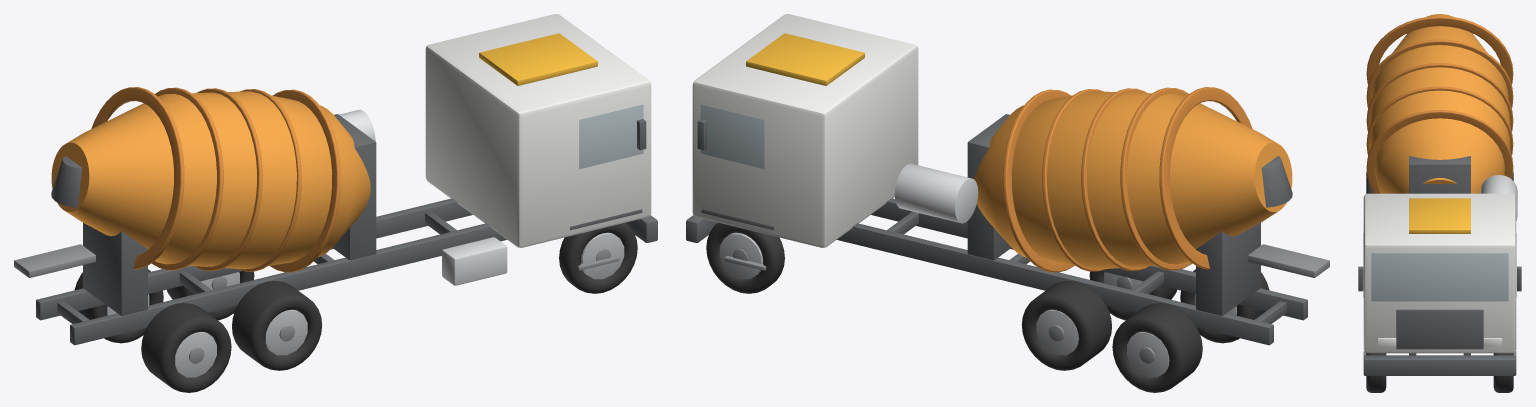
Rendered from EQP-CON-005_anim.glb.
The picture shows the model from 3 angles, left to right: view 1: azimuth 30°, elevation 25°; view 2: azimuth 150°, elevation 25°; view 3: azimuth 270°, elevation 25°; orthographic projection. The views are drawn at different scales.
Visible parts, largest first — view 1: EQP-CON-005_anim1, EQP-CON-005_anim0; view 2: EQP-CON-005_anim1, EQP-CON-005_anim0; view 3: EQP-CON-005_anim1, EQP-CON-005_anim0.
Part boxes in pixels (x1,y1,x2,y2): EQP-CON-005_anim1: [14, 14, 657, 392]; EQP-CON-005_anim0: [51, 87, 370, 272]; EQP-CON-005_anim1: [686, 14, 1329, 392]; EQP-CON-005_anim0: [974, 87, 1292, 272]; EQP-CON-005_anim1: [1358, 156, 1521, 392]; EQP-CON-005_anim0: [1366, 14, 1513, 193].
Size of the model in its own units: 8.78 by 3.8 by 2.63.
